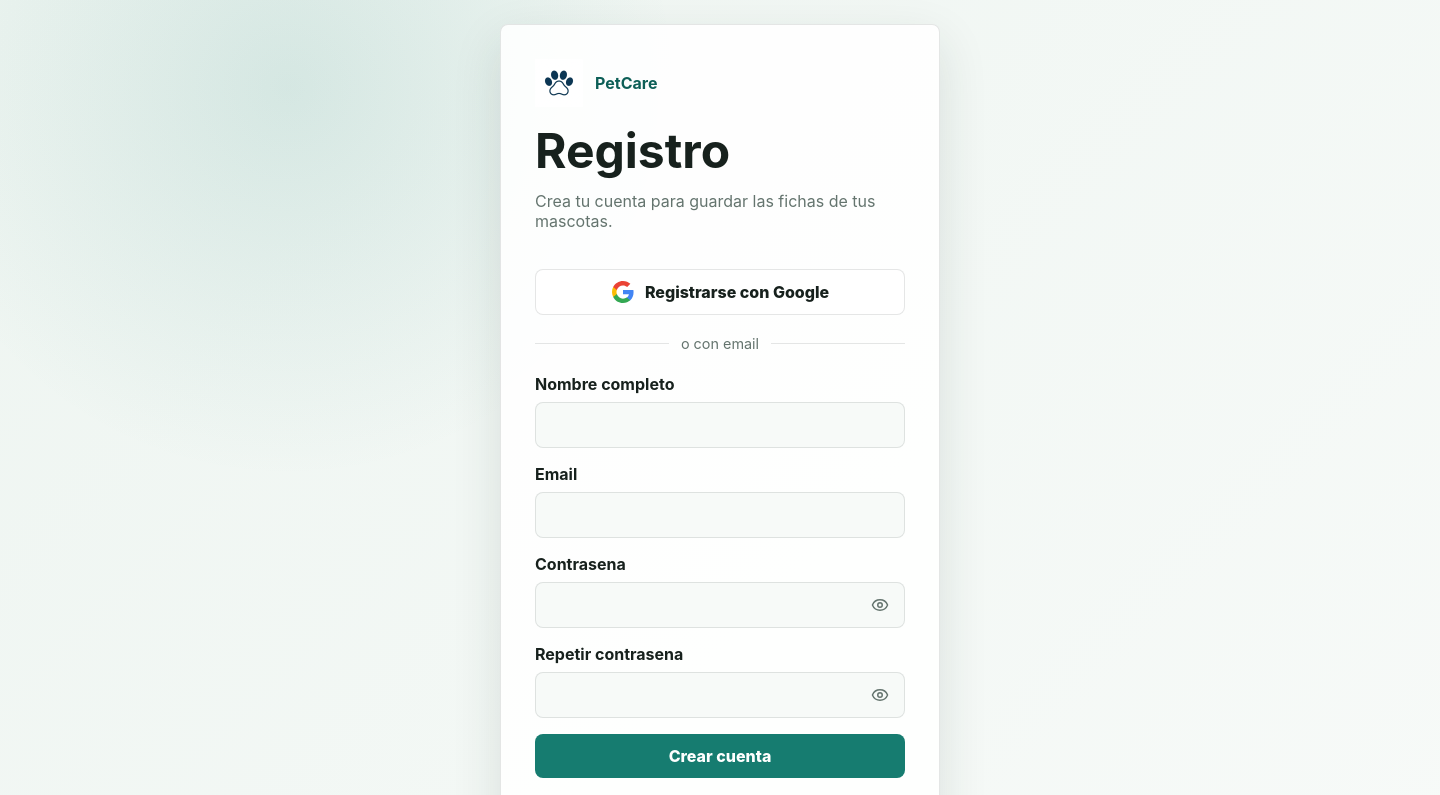
Register — lo que ve el usuario › muestra error si el nombre está vacío
Type "user@test.com" into the field labelled "Email".
click(720, 515); type("user@test.com")  # box [535,492,905,538]
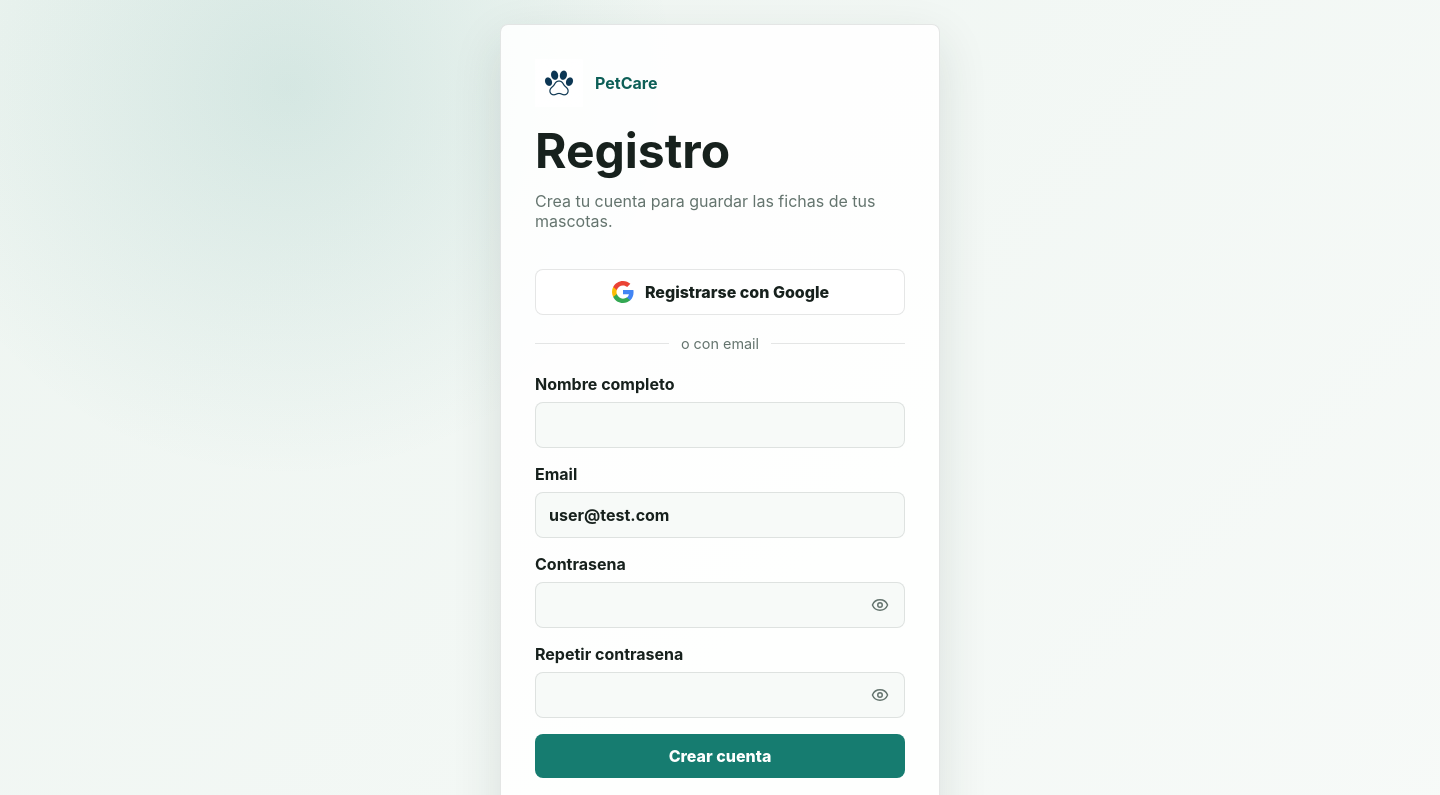
Type "password123" into the password field labelled "Contrasena".
click(720, 605); type("password123")  # box [535,582,905,628]
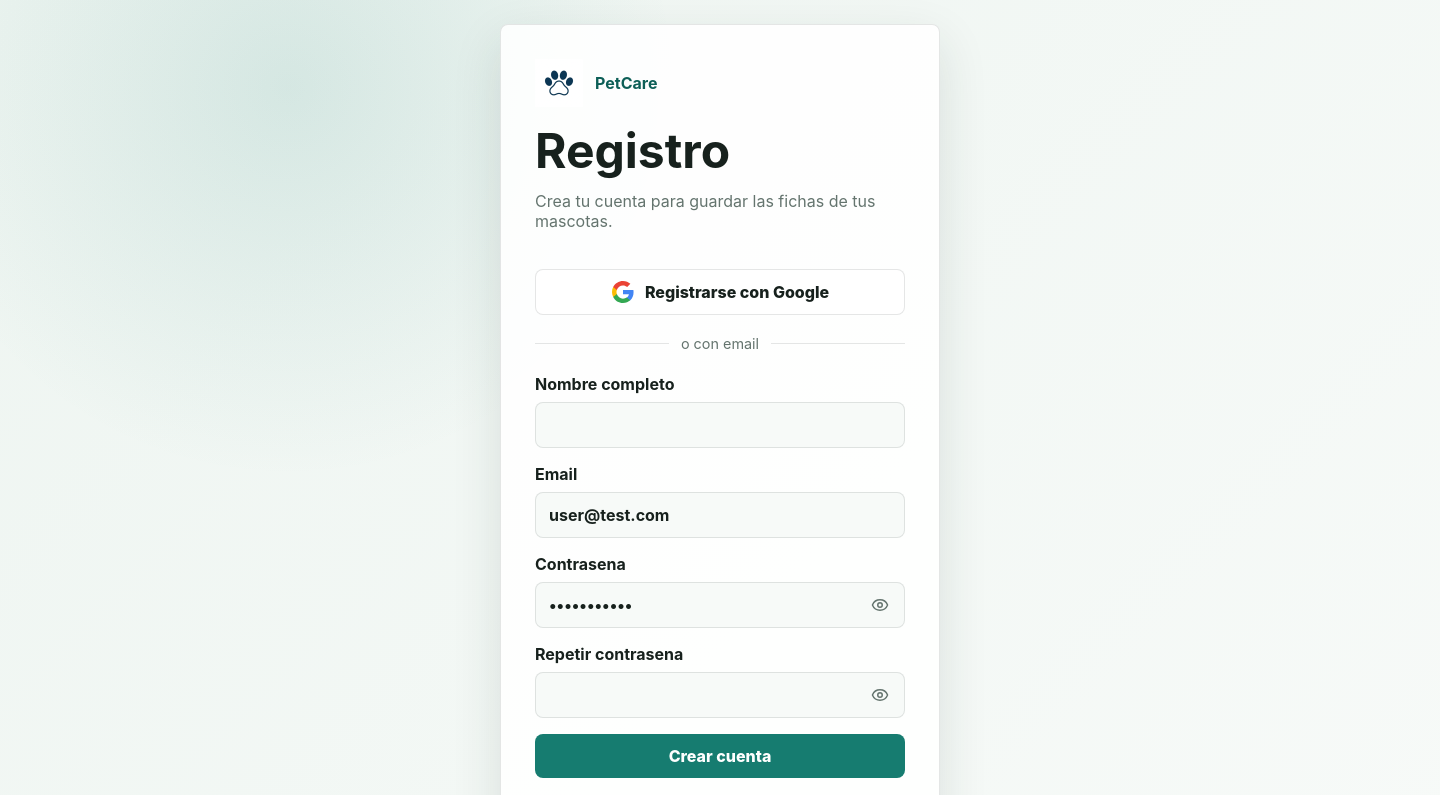
Type "password123" into the password field labelled "Repetir contrasena".
click(720, 695); type("password123")  # box [535,672,905,718]
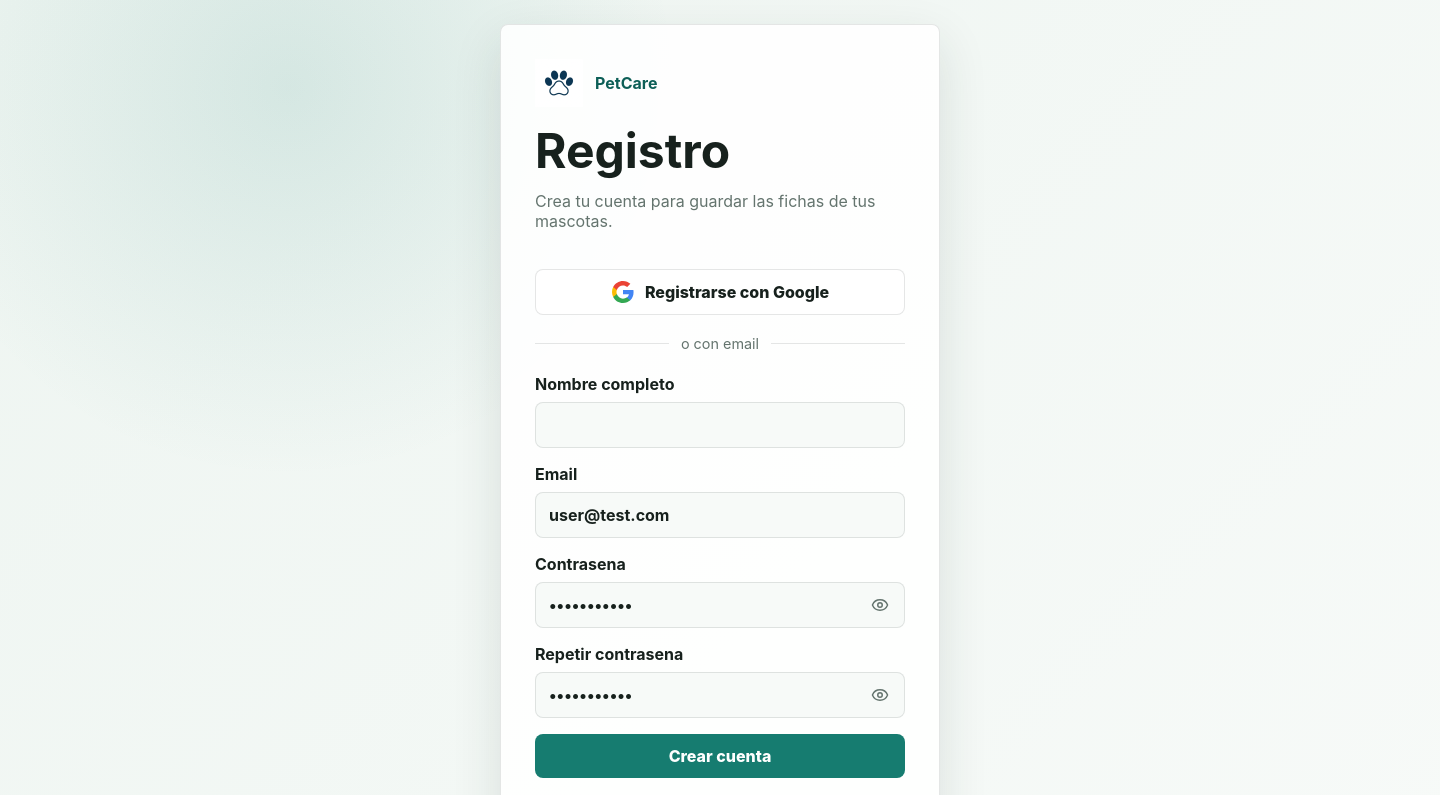
Submit the form, box [535,374,905,778]
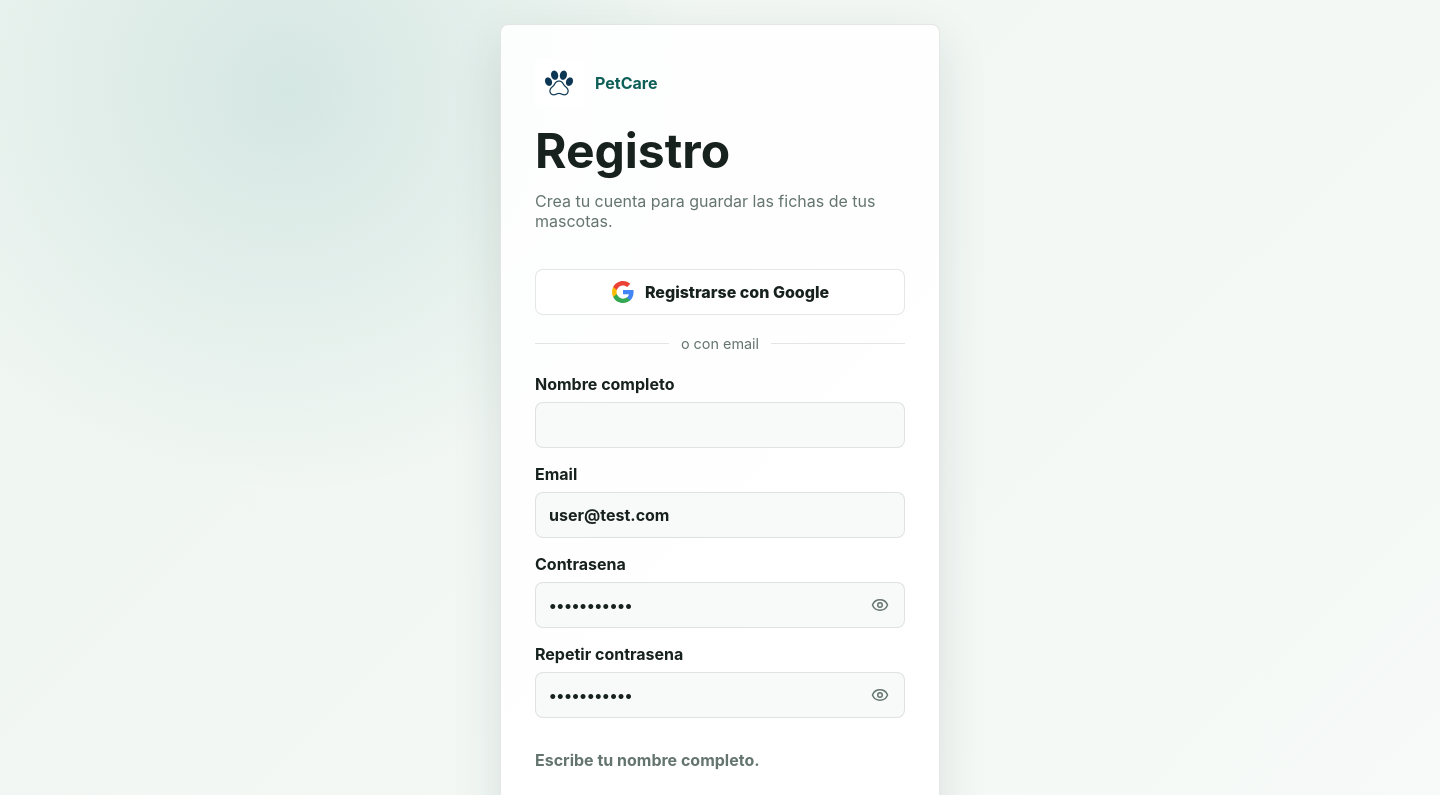
expect the text "Escribe tu nombre completo." is shown: met, box [535,750,760,770]
